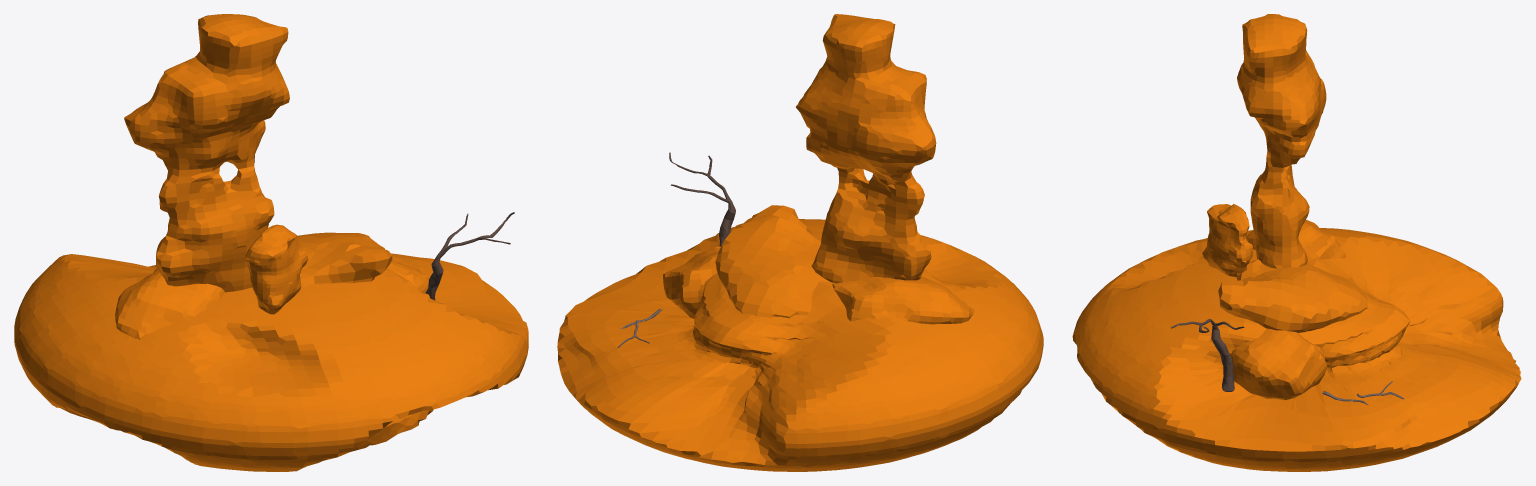
File: desert2.glb
The picture shows the model from 3 angles, left to right: view 1: azimuth 30°, elevation 25°; view 2: azimuth 150°, elevation 25°; view 3: azimuth 270°, elevation 25°; orthographic projection. The views are drawn at different scales.
Parts seen in each view (by area): view 1: Cube.036; view 2: Cube.036; view 3: Cube.036.
Boxes of the visible parts, box(x1,y1,x2,y2) form: Cube.036: box(14, 14, 528, 471); Cube.036: box(557, 14, 1043, 471); Cube.036: box(1072, 14, 1521, 471).
Size of the model in its own units: 8.09 by 7.31 by 7.93.
